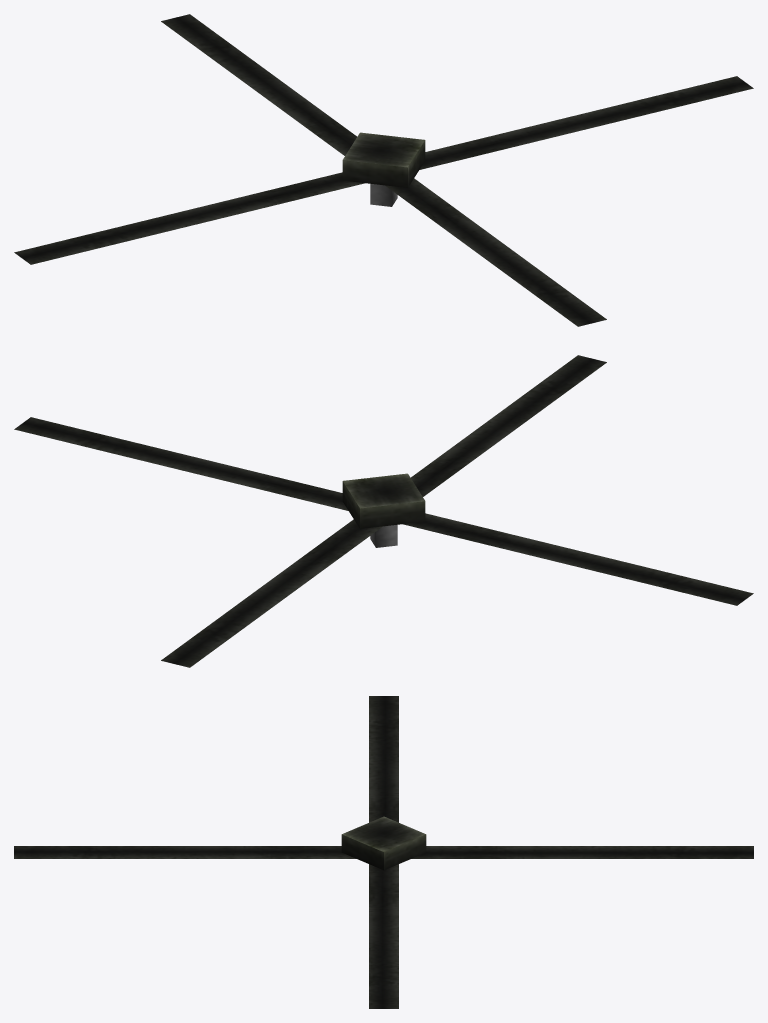
The model's file is helicopter1.obj.
The picture shows the model from 3 angles, top to bottom: view 1: azimuth 30°, elevation 25°; view 2: azimuth 150°, elevation 25°; view 3: azimuth 270°, elevation 25°; orthographic projection. The views are drawn at different scales.
Visible parts, largest first — view 1: ROTOR; view 2: ROTOR; view 3: ROTOR.
Boxes of the visible parts, left/top/right/bottom form: ROTOR: left=14, top=14, right=753, bottom=326; ROTOR: left=14, top=355, right=753, bottom=667; ROTOR: left=14, top=696, right=753, bottom=1008.
Size of the model in its own units: 4.62 by 0.3125 by 4.62.
